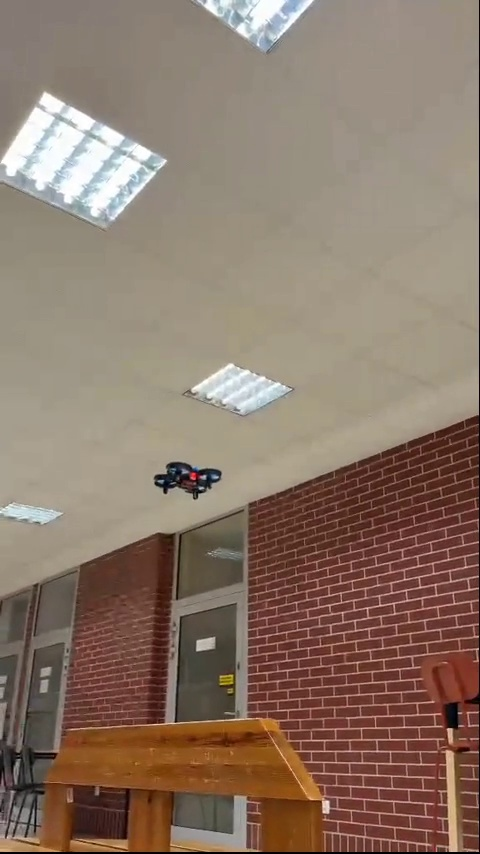drone: (150, 461, 227, 495)
